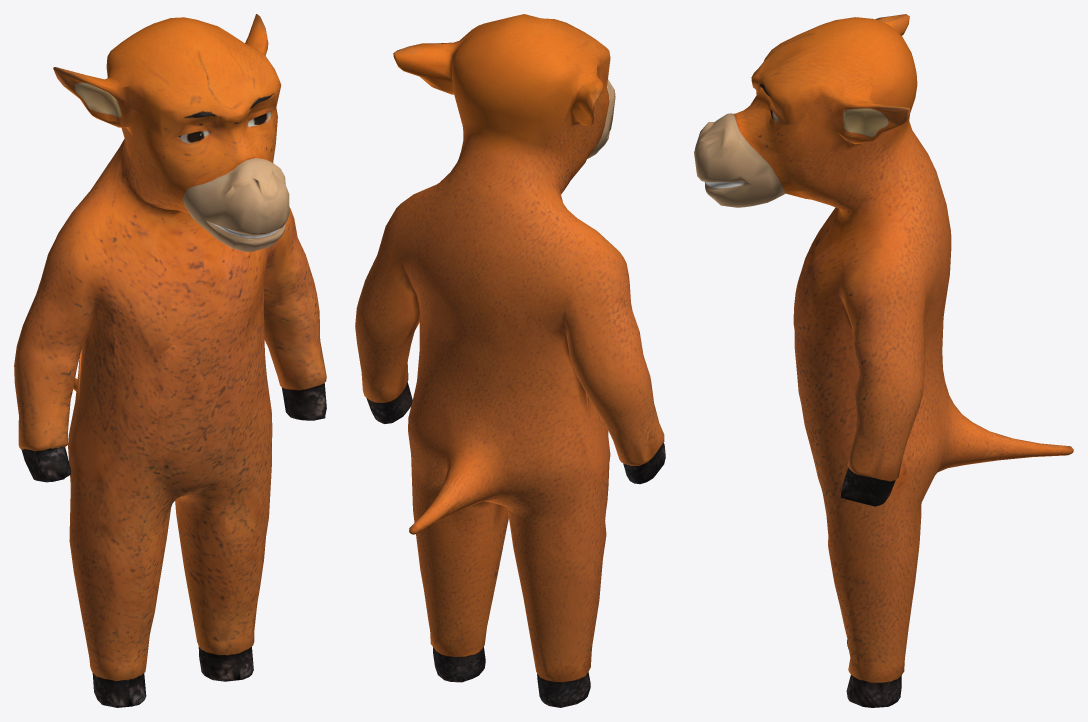
The picture shows the model from 3 angles, left to right: view 1: azimuth 30°, elevation 25°; view 2: azimuth 150°, elevation 25°; view 3: azimuth 270°, elevation 25°; orthographic projection. The views are drawn at different scales.
Visible parts, largest first — view 1: tripo_node_cb06364b; view 2: tripo_node_cb06364b; view 3: tripo_node_cb06364b.
Part boxes in pixels (x1,y1,x2,y2): tripo_node_cb06364b: [14, 14, 326, 707]; tripo_node_cb06364b: [355, 14, 665, 707]; tripo_node_cb06364b: [694, 14, 1073, 707].
Bounding box in the file's own units: 0.4656 × 1 × 0.5295.
1 material, 1 textured.
